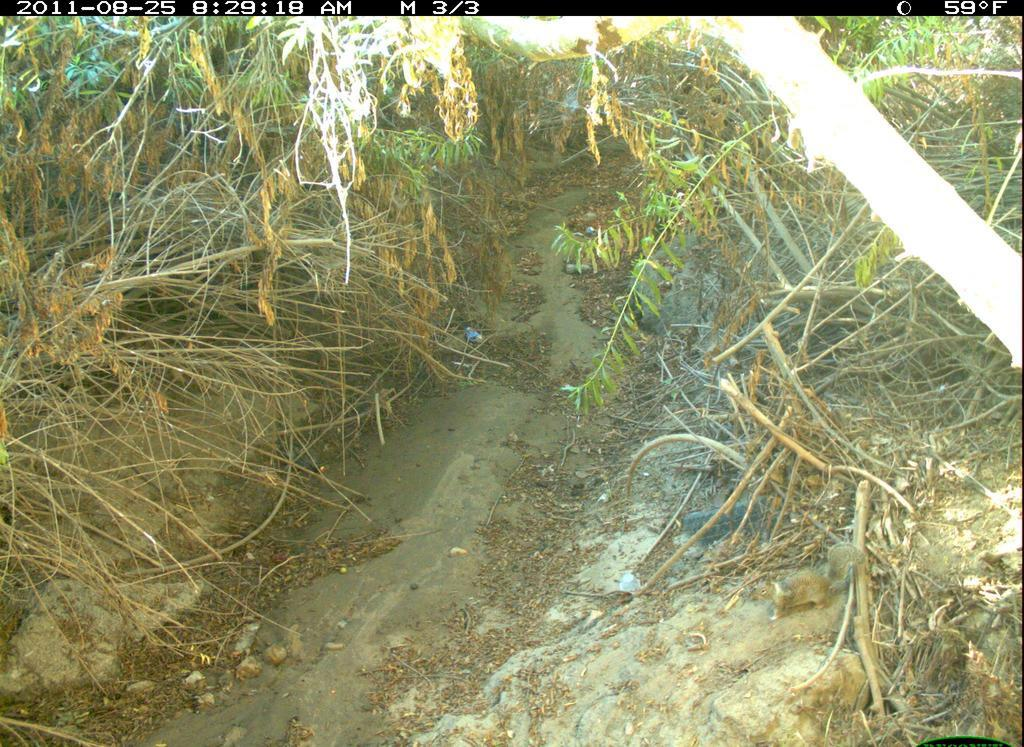squirrel: (749, 540, 868, 624)
